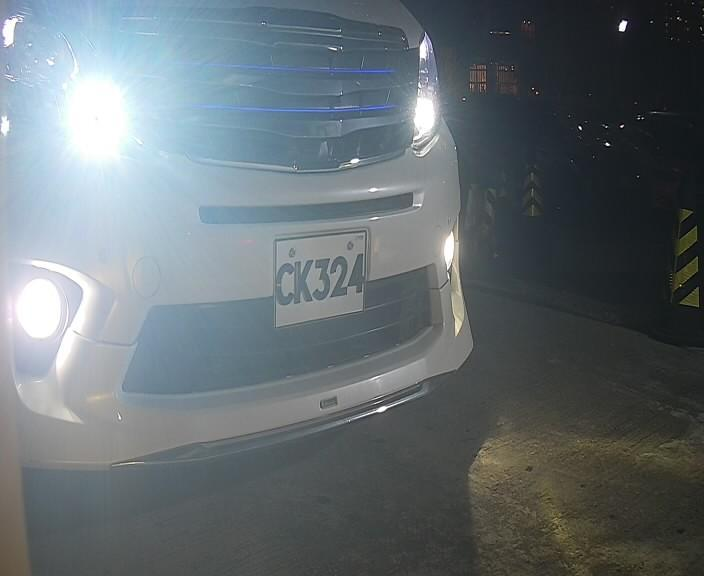privatecar: (1, 5, 511, 497)
